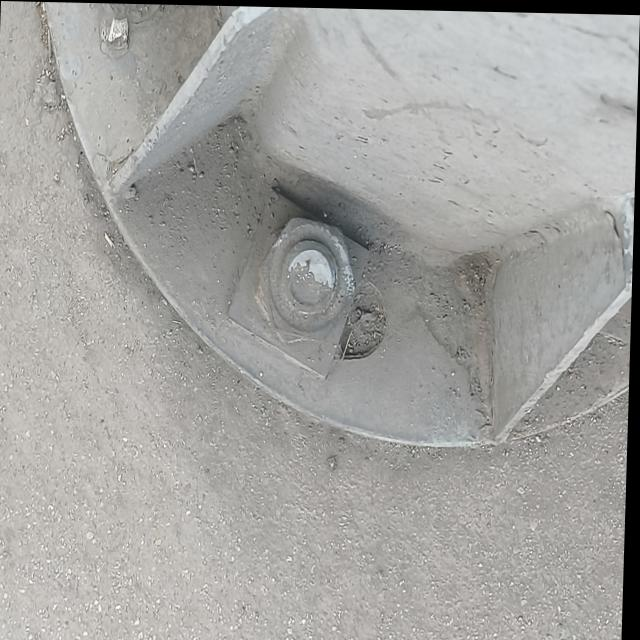Regular bolt: (255, 215, 359, 343)
